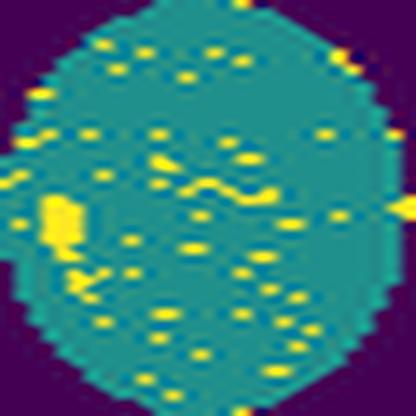Loc: (34, 196, 88, 266)
